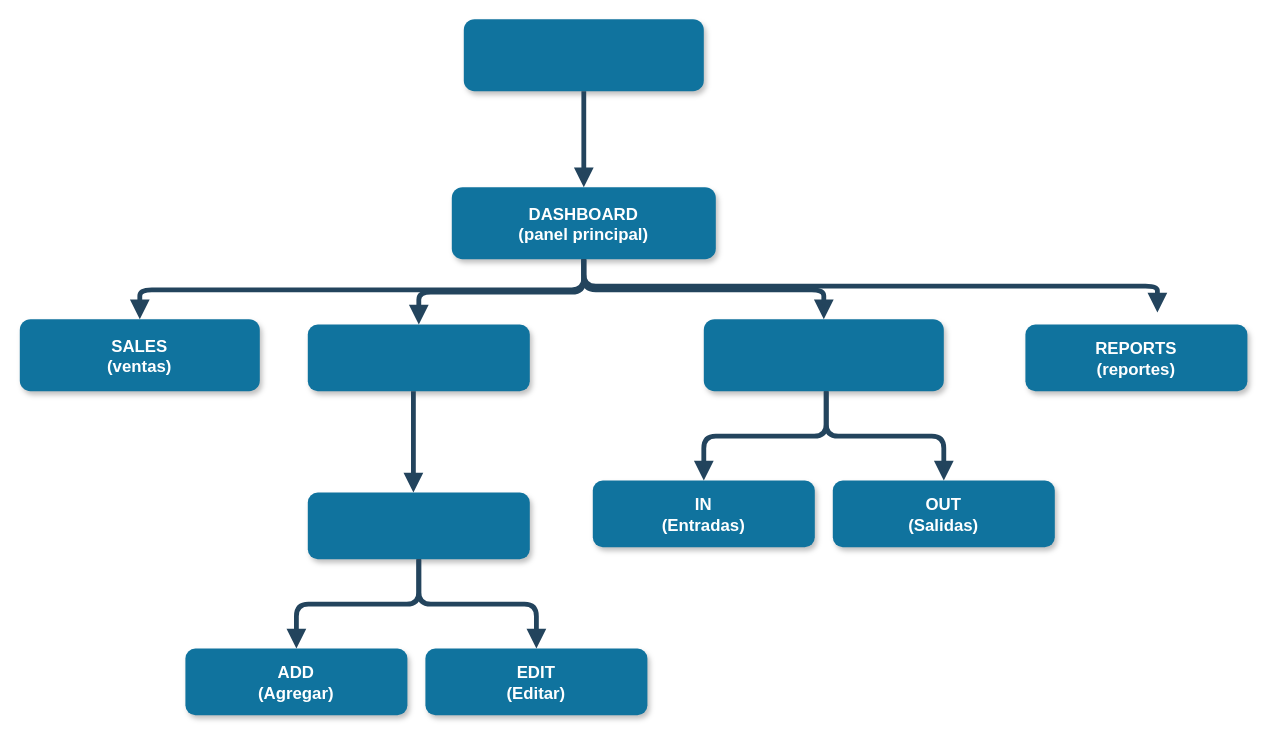
This 1267x734 diagram has some shape labels left out. Here are the shapes that lost their labels. From the top down, the centre of each, then its label:
At (x=584, y=56): "LOGIN (form. acceso)".
At (x=419, y=359): "PRODUCTS (productos)".
At (x=824, y=356): "WAREHOUSE (bodega)".
At (x=419, y=527): "ADMIN (administrar)".
